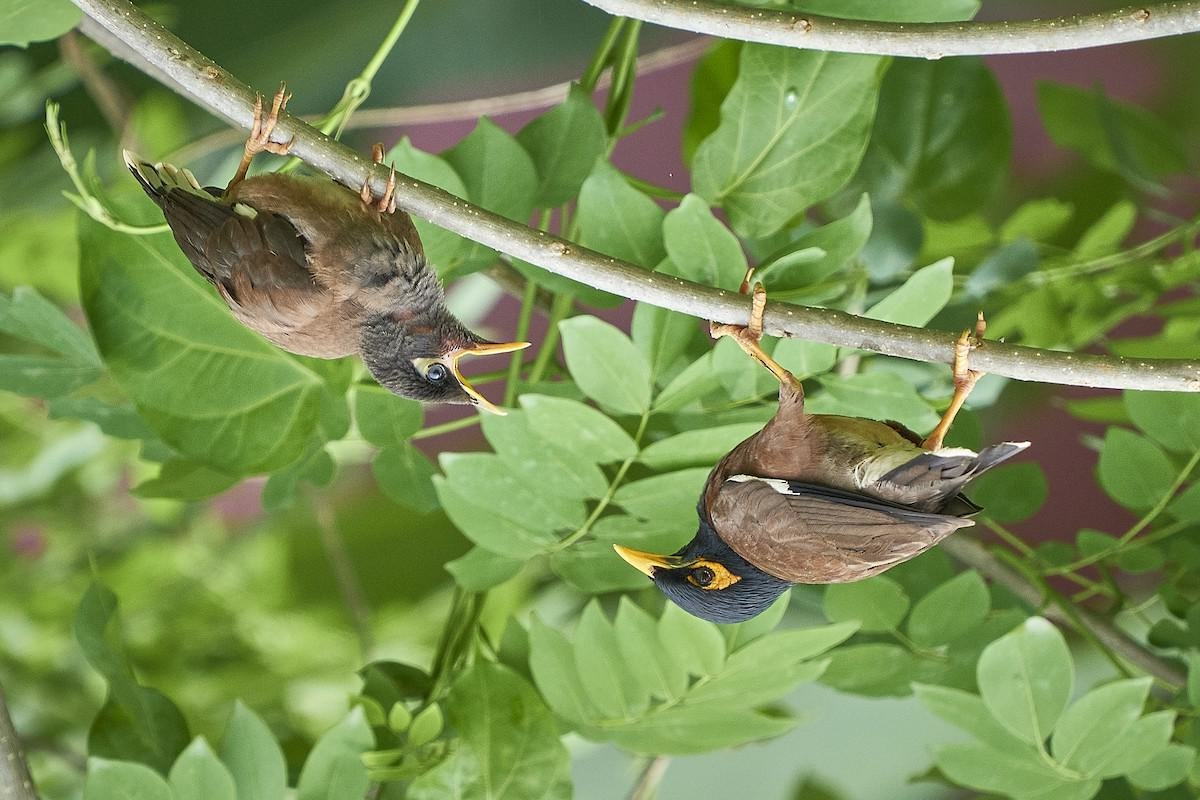myna: (136, 55, 543, 447), (615, 354, 1014, 633)
